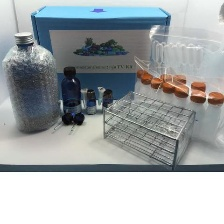book: (27, 0, 174, 107)
bottle: (181, 90, 207, 142), (199, 90, 224, 142), (157, 78, 178, 128), (169, 83, 189, 133), (131, 66, 150, 106), (147, 74, 163, 119), (136, 72, 152, 110)
insecticide: (2, 30, 61, 138), (56, 63, 82, 116), (81, 88, 99, 116), (101, 87, 116, 115)
